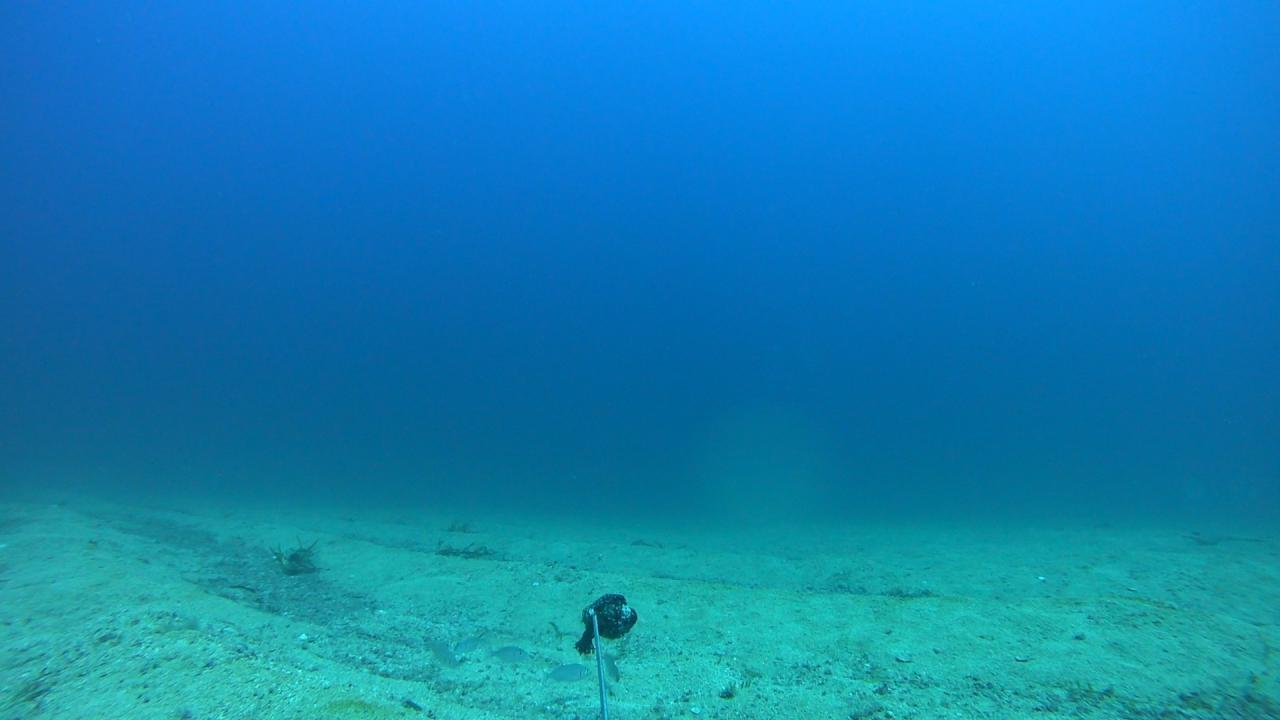dasyatis: (1181, 528, 1272, 547)
